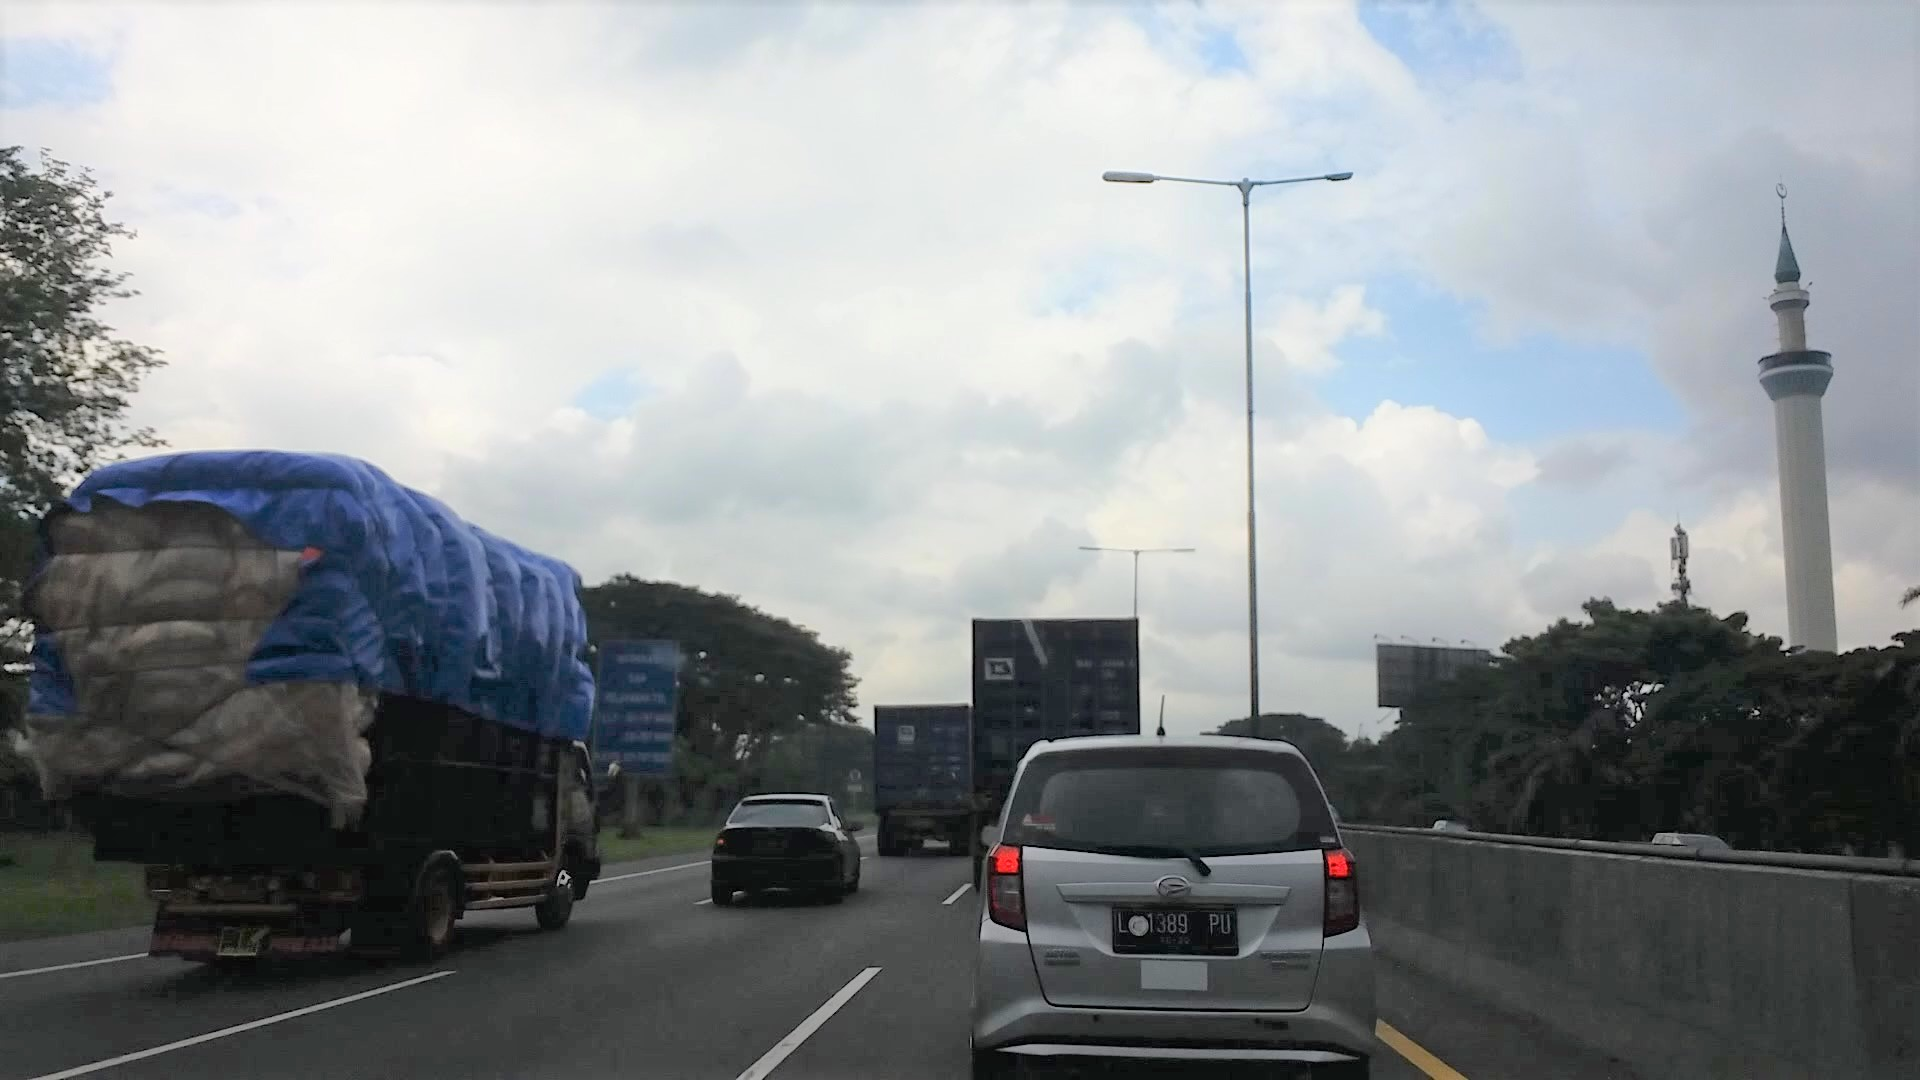plate_positive: (1112, 905, 1238, 955)
